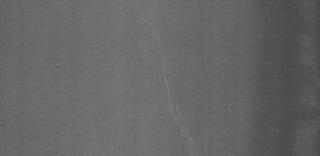silk spot: (154, 63, 196, 129), (172, 110, 202, 156), (147, 20, 161, 48)
